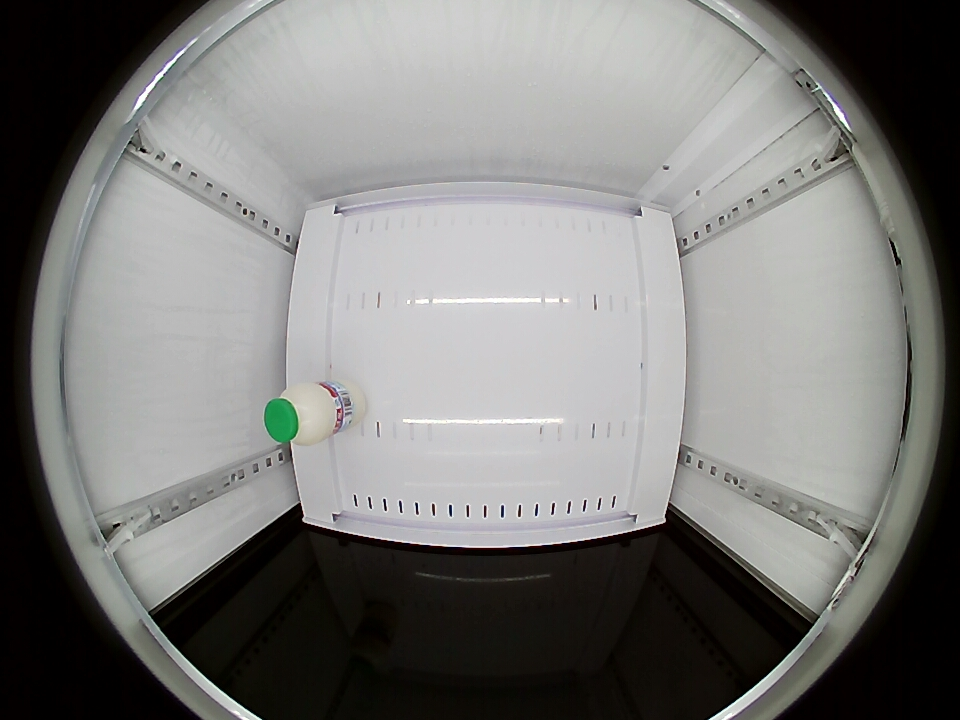liziyuan: (264, 381, 338, 446)
